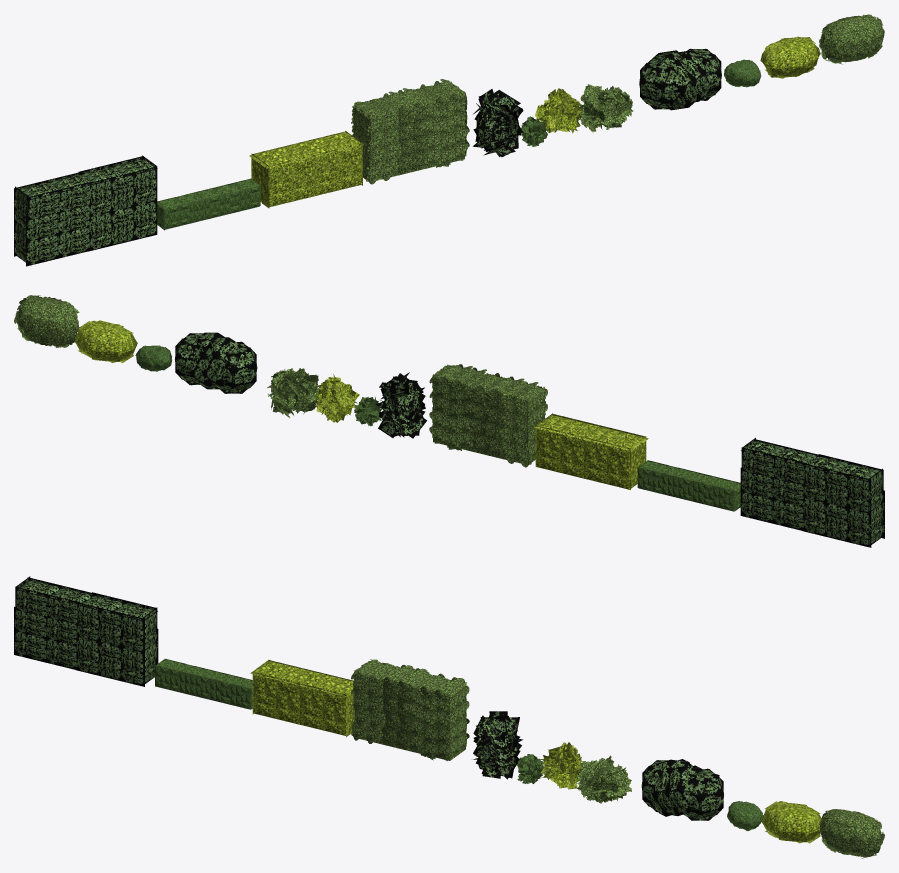
File: Hedge+set+2.glb
The picture shows the model from 3 angles, top to bottom: view 1: azimuth 30°, elevation 25°; view 2: azimuth 150°, elevation 25°; view 3: azimuth 330°, elevation 25°; orthographic projection.
Bounding box in the file's own units: 38.99 × 3.53 × 2.41.
Materials: 8 (8 with a texture image).
